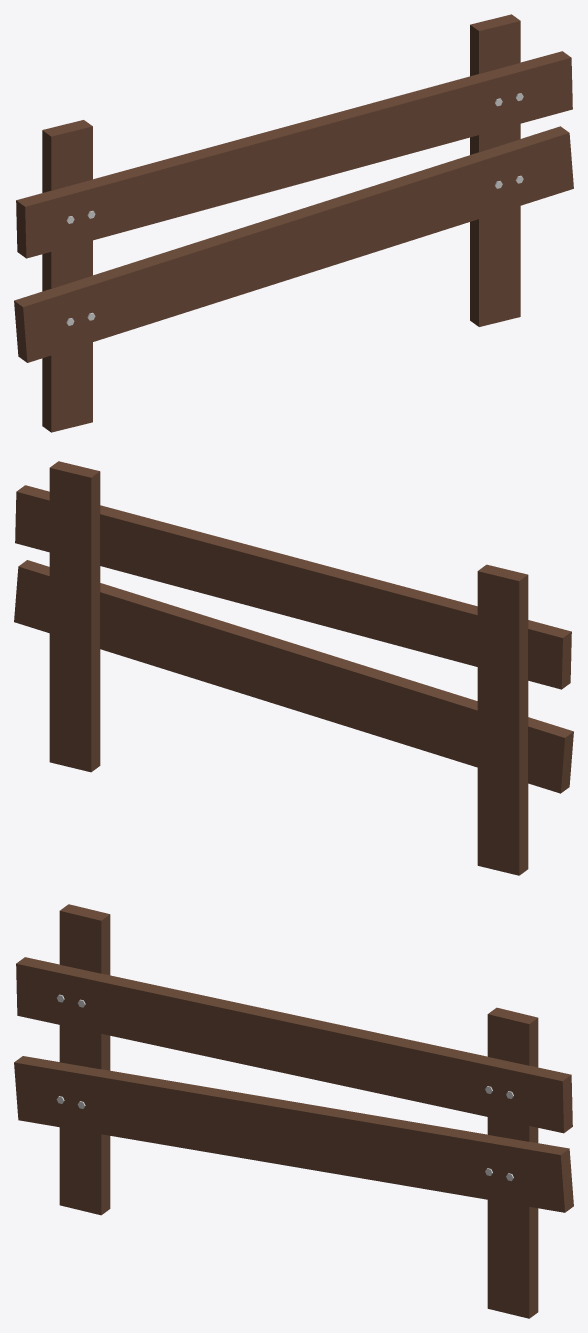
File: fence#002.glb
3 renders of one model, top to bottom at view 1: azimuth 30°, elevation 25°; view 2: azimuth 150°, elevation 25°; view 3: azimuth 330°, elevation 25°, orthographic.
Parts seen in each view (by area): view 1: Fence2.001; view 2: Fence2.001; view 3: Fence2.001.
Part boxes in pixels (x1,y1,x2,y2): Fence2.001: (14, 14, 573, 432); Fence2.001: (14, 461, 573, 875); Fence2.001: (14, 904, 573, 1318).
Bounding box in the file's own units: 3.82 × 1.95 × 0.2363.
